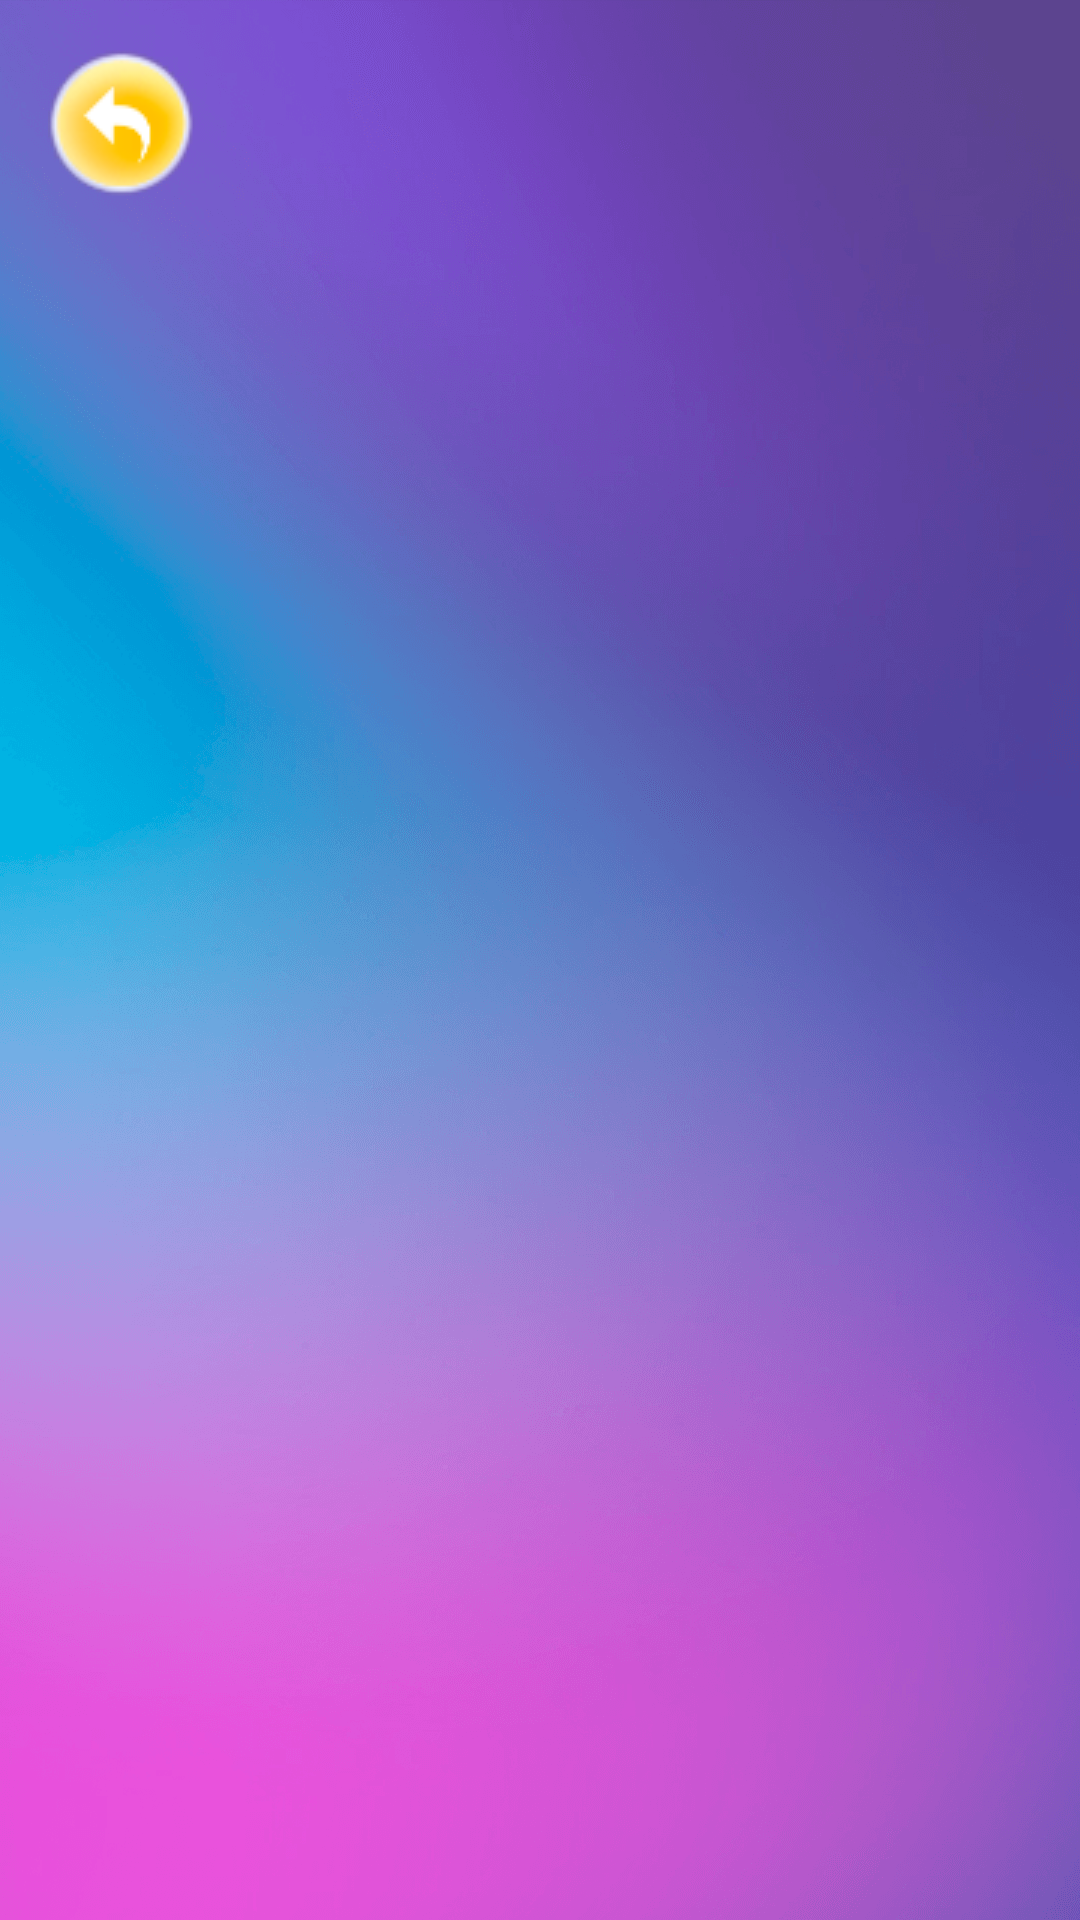

Icons on this 1080px x 1920px Android screen, each with the point to tap as (x,y):
back: (121,123)
